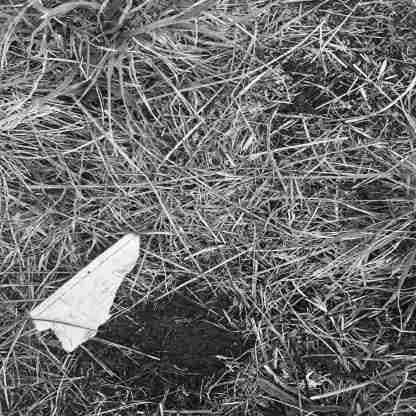plastic: (31, 237, 139, 352)
